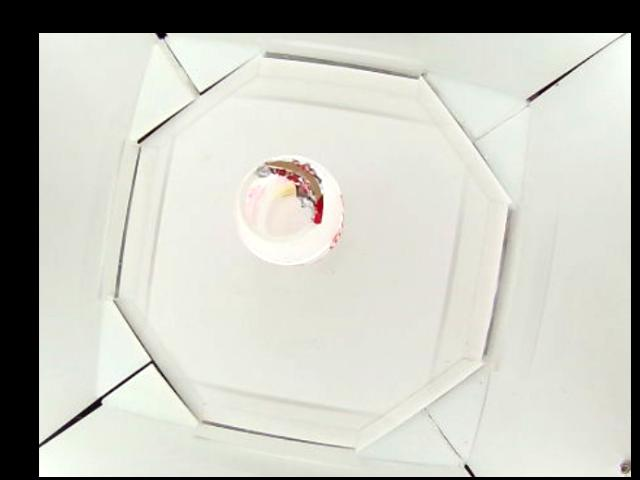Bottle: (239, 156, 342, 266)
